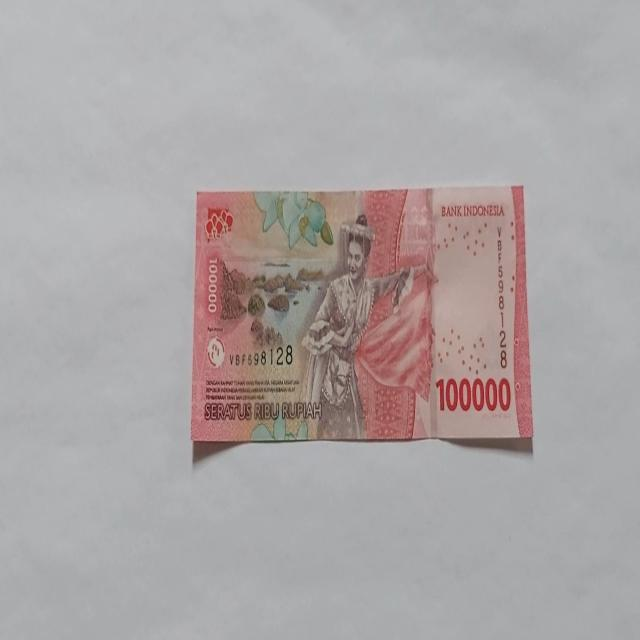seratus ribu rupiah: (190, 184, 532, 446), (298, 213, 422, 440)
